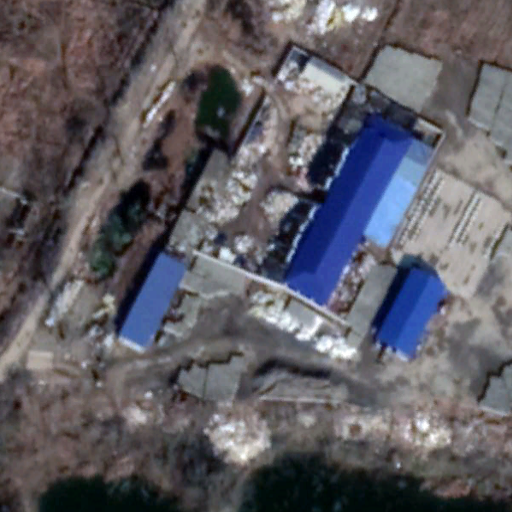msw: (201, 70, 354, 280), (254, 292, 357, 370), (341, 407, 455, 451), (205, 414, 271, 465)
